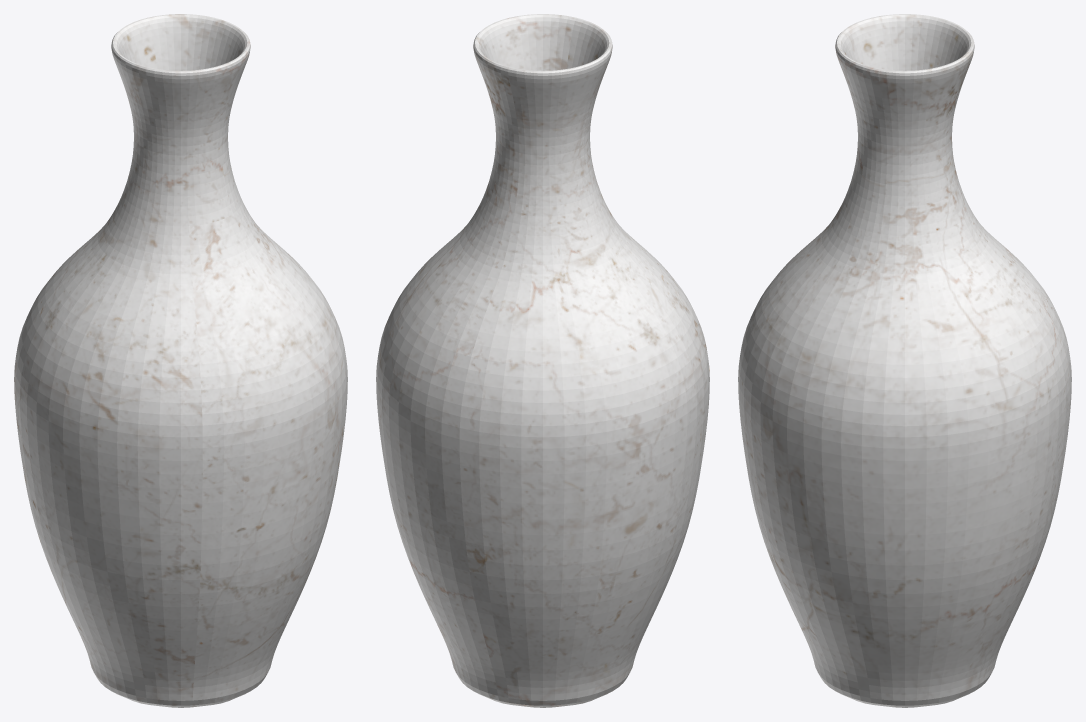
File: vase.glb
3 views of the same model, side by side, from view 1: azimuth 30°, elevation 25°; view 2: azimuth 150°, elevation 25°; view 3: azimuth 270°, elevation 25° (orthographic).
Parts seen in each view (by area): view 1: Plane; view 2: Plane; view 3: Plane.
Part boxes in pixels (x1,y1,x2,y2): Plane: (14, 14, 347, 707); Plane: (376, 14, 709, 707); Plane: (738, 14, 1071, 707).
Bounding box in the file's own units: 0.3511 × 0.7413 × 0.3511.
1 material, 1 textured.
